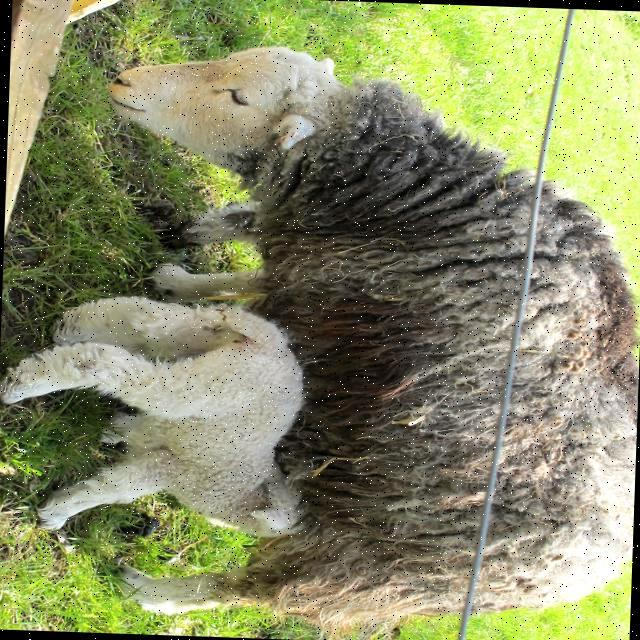sheep: (112, 45, 638, 636), (24, 303, 303, 536)
